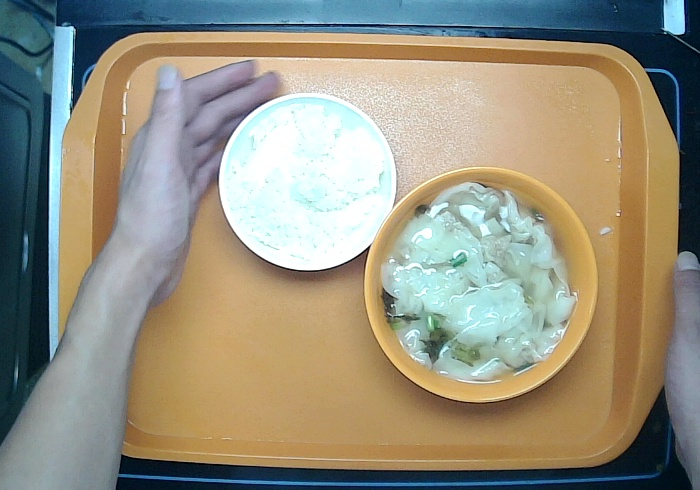NLDX-Fan_Wan: (217, 91, 399, 272)
NLDX-Hun_Tun_Wan: (363, 166, 598, 404)
